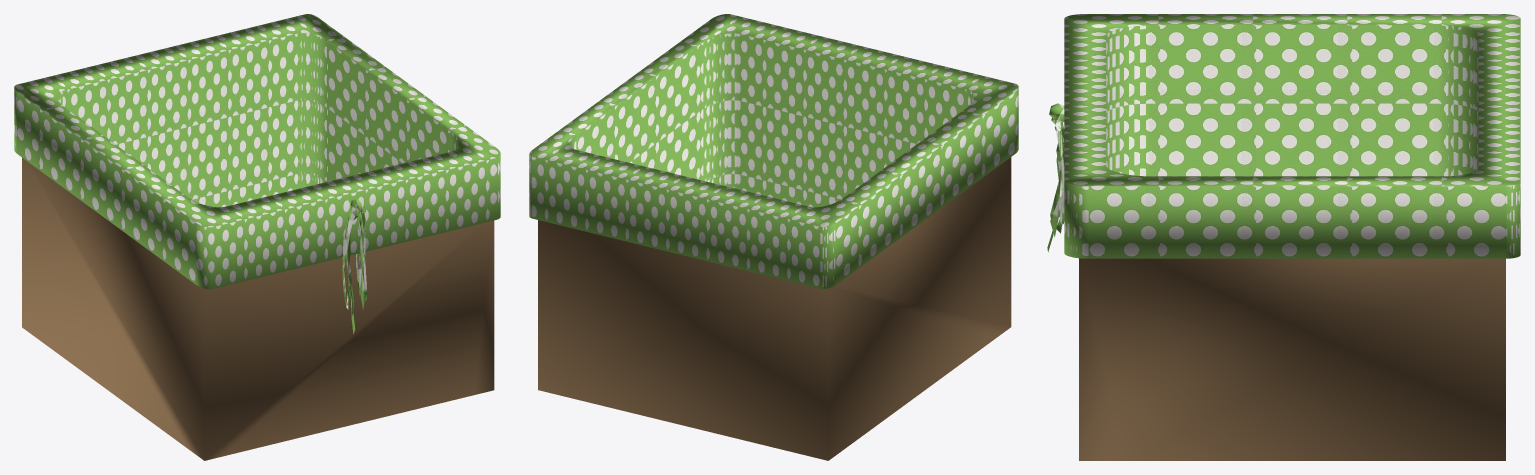
The model's file is Basket+and+bow.obj.
3 renders of one model, left to right at view 1: azimuth 30°, elevation 25°; view 2: azimuth 150°, elevation 25°; view 3: azimuth 270°, elevation 25°, orthographic. The views are drawn at different scales.
Visible parts, largest first — view 1: Mesh3 Group5 Group3 Group1 Model, Mesh2 Group4 Group3 Group1 Model, Mesh1 Group2 Group1 Model; view 2: Mesh3 Group5 Group3 Group1 Model, Mesh2 Group4 Group3 Group1 Model; view 3: Mesh3 Group5 Group3 Group1 Model, Mesh2 Group4 Group3 Group1 Model, Mesh1 Group2 Group1 Model.
Part boxes in pixels (left/top/right/bottom): Mesh3 Group5 Group3 Group1 Model: left=14, top=14, right=500, bottom=289; Mesh2 Group4 Group3 Group1 Model: left=22, top=157, right=494, bottom=460; Mesh1 Group2 Group1 Model: left=342, top=199, right=366, bottom=334; Mesh3 Group5 Group3 Group1 Model: left=529, top=14, right=1018, bottom=289; Mesh2 Group4 Group3 Group1 Model: left=538, top=157, right=1011, bottom=460; Mesh3 Group5 Group3 Group1 Model: left=1064, top=14, right=1520, bottom=258; Mesh2 Group4 Group3 Group1 Model: left=1079, top=258, right=1505, bottom=460; Mesh1 Group2 Group1 Model: left=1047, top=103, right=1064, bottom=252.
Bounding box in the file's own units: 12.3 × 9.25 × 14.27.
